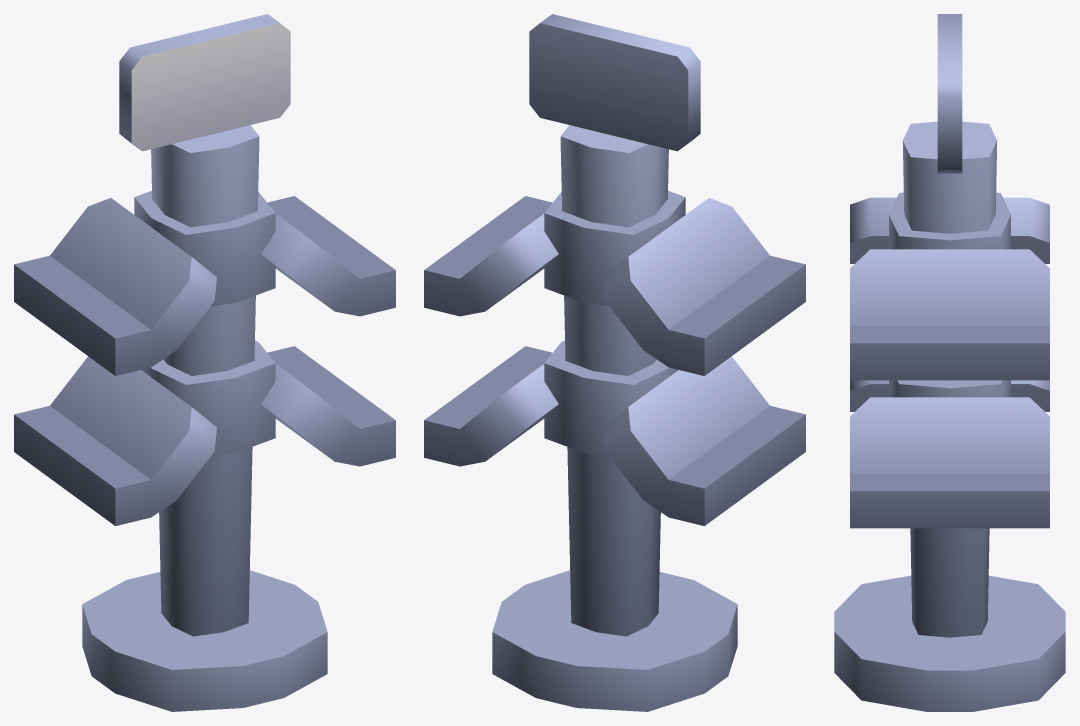
File: display-small.glb
3 renders of one model, left to right at view 1: azimuth 30°, elevation 25°; view 2: azimuth 150°, elevation 25°; view 3: azimuth 270°, elevation 25°, orthographic.
Parts seen in each view (by area): view 1: display-small; view 2: display-small; view 3: display-small.
Part boxes in pixels (bbox=[...]): display-small: bbox=[14, 14, 395, 711]; display-small: bbox=[424, 14, 805, 711]; display-small: bbox=[834, 14, 1065, 711].
Bounding box in the file's own units: 0.3911 × 0.8326 × 0.2834.
1 material, 1 textured.
